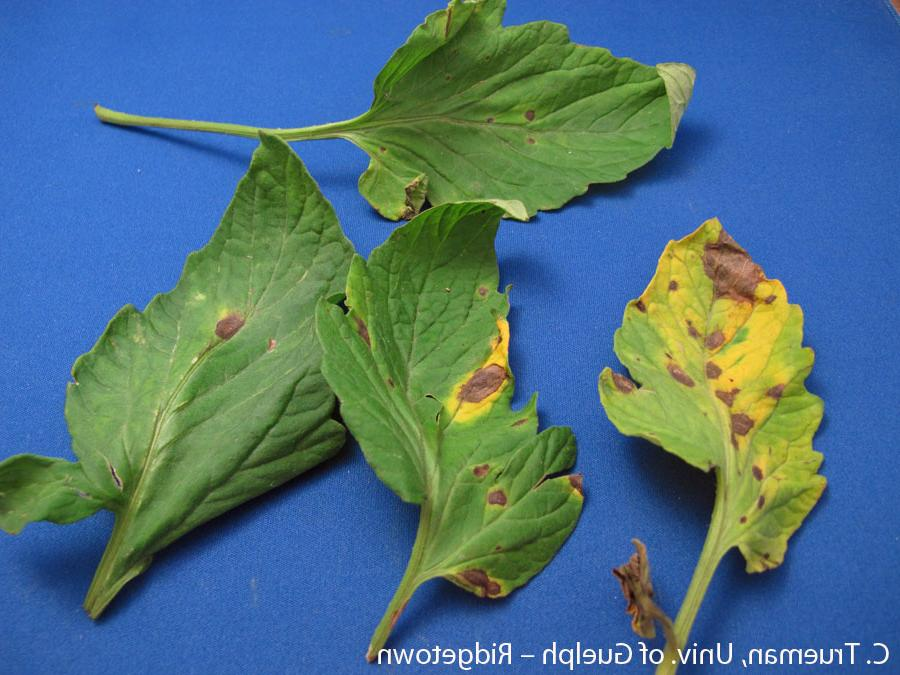Tomato Early blight leaf: (16, 129, 352, 648), (326, 198, 587, 620), (323, 4, 747, 233), (606, 207, 836, 605)
